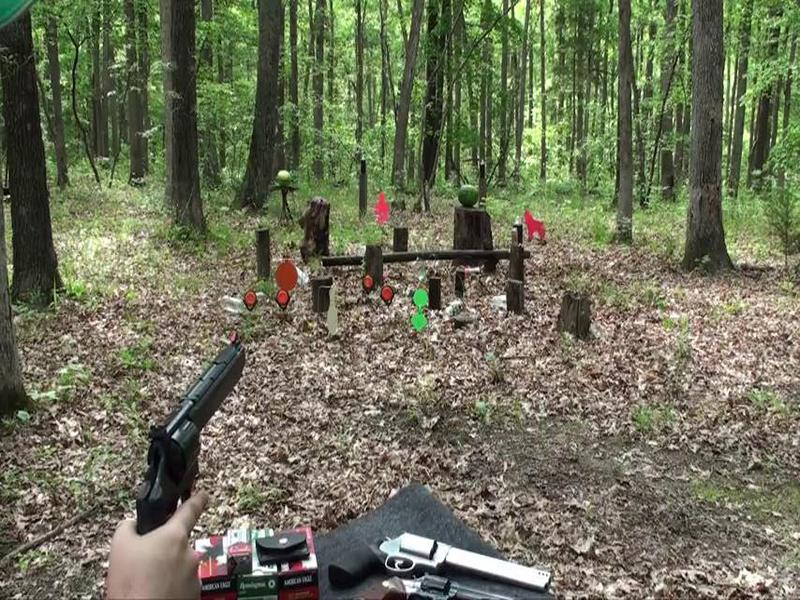Revolver: (134, 331, 277, 543)
